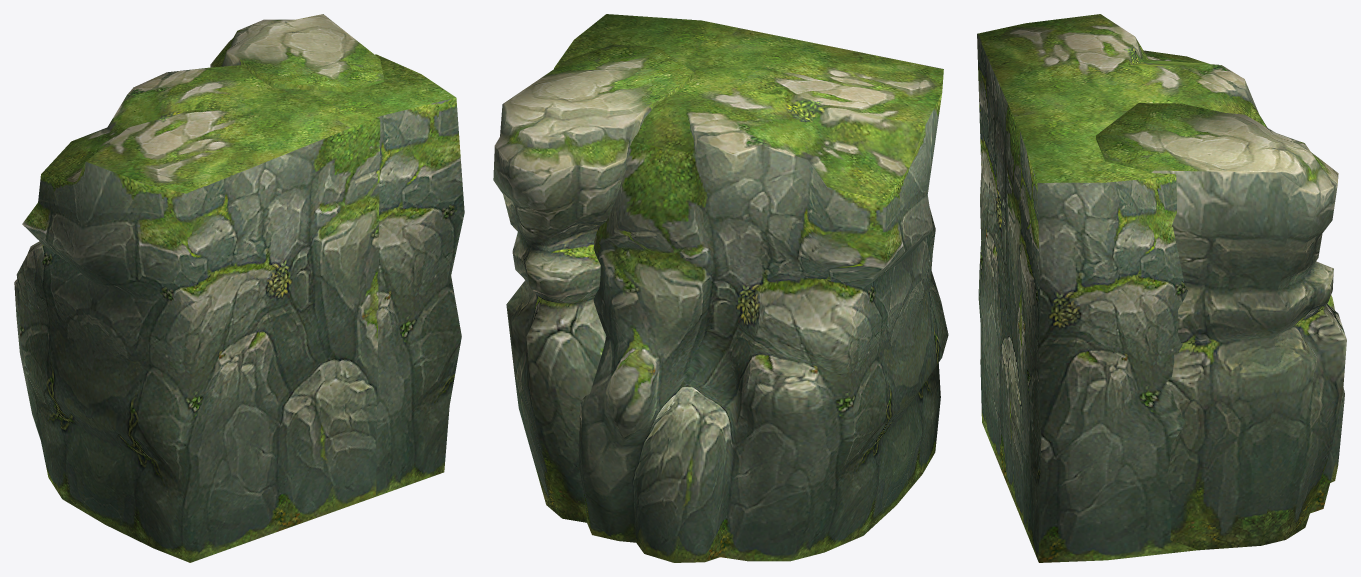
The model's file is Hangzhou_wj_023.FBX.
The picture shows the model from 3 angles, left to right: view 1: azimuth 30°, elevation 25°; view 2: azimuth 150°, elevation 25°; view 3: azimuth 270°, elevation 25°; orthographic projection. The views are drawn at different scales.
Visible parts, largest first — view 1: DrawCall_1229; view 2: DrawCall_1229; view 3: DrawCall_1229.
Boxes of the visible parts, x1=… form: DrawCall_1229: x1=14, y1=14, x2=464, y2=562; DrawCall_1229: x1=493, y1=14, x2=948, y2=562; DrawCall_1229: x1=977, y1=14, x2=1346, y2=562.
Size of the model in its own units: 617 by 632 by 528.
